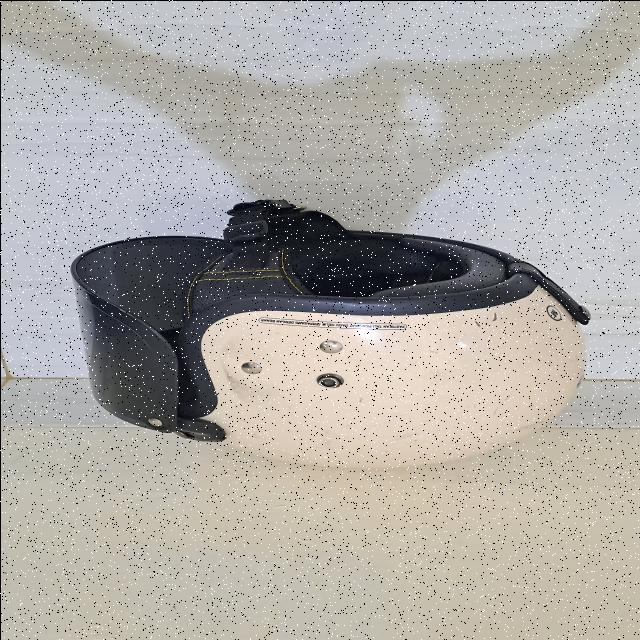Helmet: (67, 195, 591, 468)
